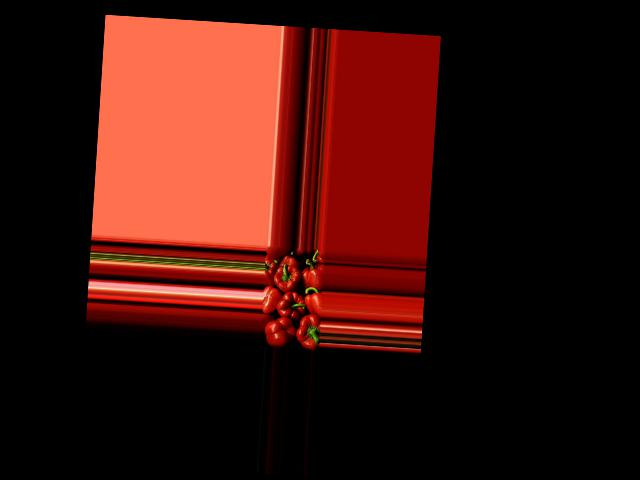bell_pepper: (262, 286, 280, 315)
